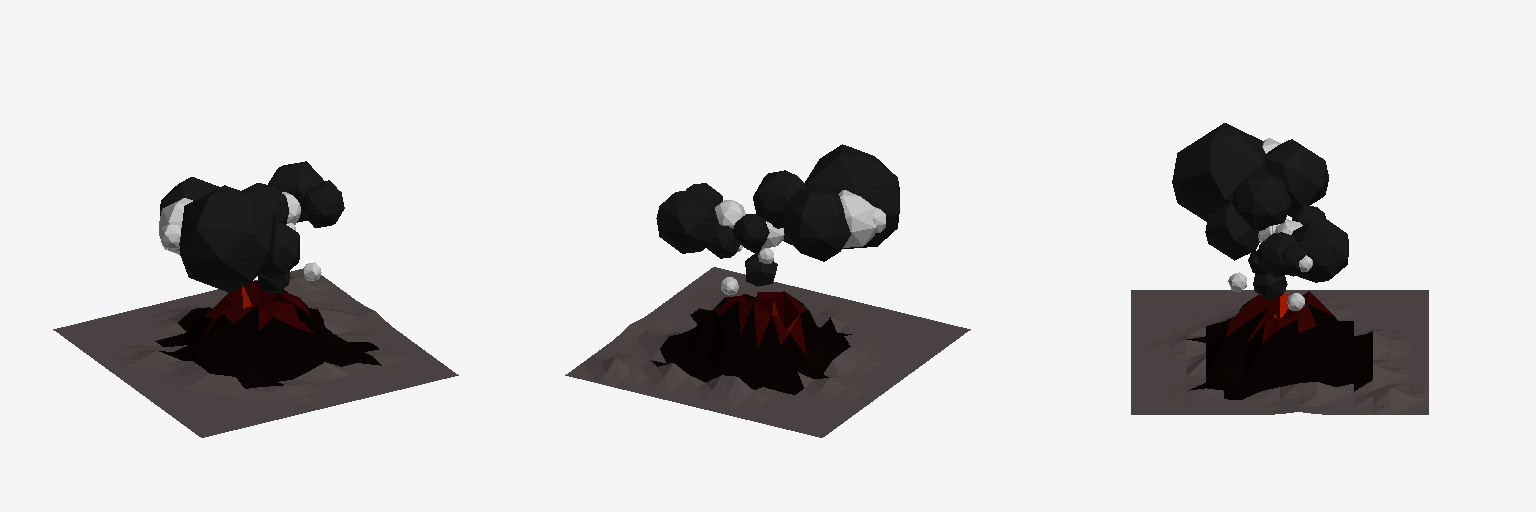
The model's file is lavaeye.obj.
The picture shows the model from 3 angles: view 1: azimuth 30°, elevation 25°; view 2: azimuth 150°, elevation 25°; view 3: azimuth 270°, elevation 25°; orthographic projection.
Visible parts, largest first — view 1: Plane, Icosphere.005_Icosphere.006, Icosphere.013_Icosphere.014, Icosphere.014_Icosphere.015, Icosphere, Icosphere.001, Icosphere.006_Icosphere.007, Icosphere.007_Icosphere.008; view 2: Plane, Icosphere.005_Icosphere.006, Icosphere.006_Icosphere.007, Icosphere.014_Icosphere.015, Icosphere.001, Icosphere.007_Icosphere.008, Icosphere.020_Icosphere.021, Icosphere.004_Icosphere.005, Icosphere.018_Icosphere.019, Icosphere.017_Icosphere.018; view 3: Plane, Icosphere.005_Icosphere.006, Icosphere.006_Icosphere.007, Icosphere.001, Icosphere.014_Icosphere.015, Icosphere, Icosphere.013_Icosphere.014, Icosphere.004_Icosphere.005, Icosphere.012_Icosphere.013.
Part boxes in pixels (bbox=[...]): Plane: bbox=[53, 268, 458, 437]; Icosphere.005_Icosphere.006: bbox=[179, 185, 275, 292]; Icosphere.013_Icosphere.014: bbox=[301, 184, 344, 227]; Icosphere.014_Icosphere.015: bbox=[268, 161, 323, 222]; Icosphere: bbox=[260, 223, 299, 279]; Icosphere.001: bbox=[242, 183, 288, 224]; Icosphere.006_Icosphere.007: bbox=[160, 177, 219, 215]; Icosphere.007_Icosphere.008: bbox=[159, 198, 192, 254]; Plane: bbox=[565, 267, 970, 437]; Icosphere.005_Icosphere.006: bbox=[805, 144, 899, 248]; Icosphere.006_Icosphere.007: bbox=[784, 188, 850, 261]; Icosphere.014_Icosphere.015: bbox=[656, 190, 719, 253]; Icosphere.001: bbox=[753, 170, 806, 228]; Icosphere.007_Icosphere.008: bbox=[838, 190, 875, 247]; Icosphere.020_Icosphere.021: bbox=[733, 214, 769, 249]; Icosphere.004_Icosphere.005: bbox=[745, 253, 777, 286]; Icosphere.018_Icosphere.019: bbox=[707, 225, 739, 258]; Icosphere.017_Icosphere.018: bbox=[715, 200, 745, 228]; Plane: bbox=[1131, 290, 1428, 414]; Icosphere.005_Icosphere.006: bbox=[1172, 123, 1269, 221]; Icosphere.006_Icosphere.007: bbox=[1264, 139, 1328, 216]; Icosphere.001: bbox=[1232, 174, 1291, 230]; Icosphere.014_Icosphere.015: bbox=[1292, 218, 1348, 282]; Icosphere: bbox=[1205, 201, 1259, 260]; Icosphere.013_Icosphere.014: bbox=[1257, 232, 1295, 277]; Icosphere.004_Icosphere.005: bbox=[1253, 273, 1287, 300]; Icosphere.012_Icosphere.013: bbox=[1283, 241, 1307, 276].
Bounding box in the file's own units: 10 × 7.31 × 10.